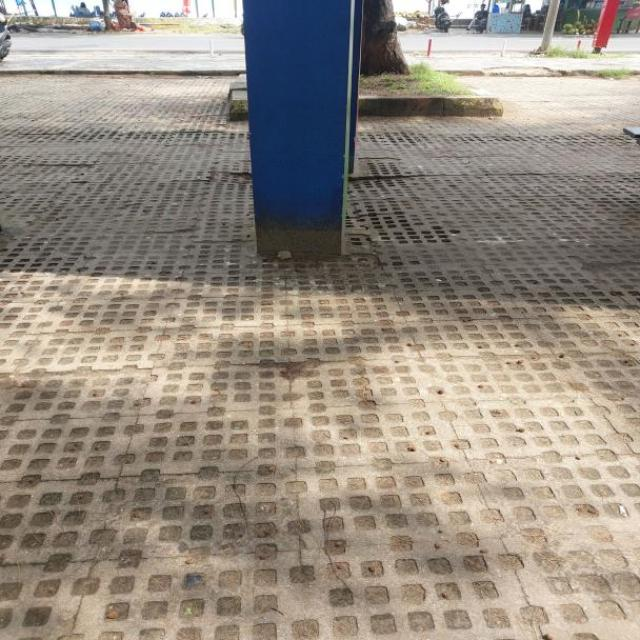pillar ahead at: (236, 0, 361, 270)
